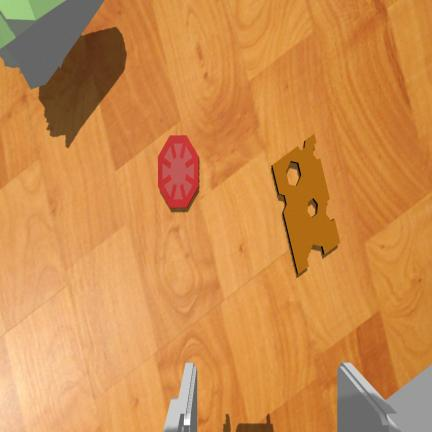cheese: (272, 135, 339, 274)
lettuce: (0, 0, 104, 88)
sliced_tomato: (158, 136, 198, 207)
